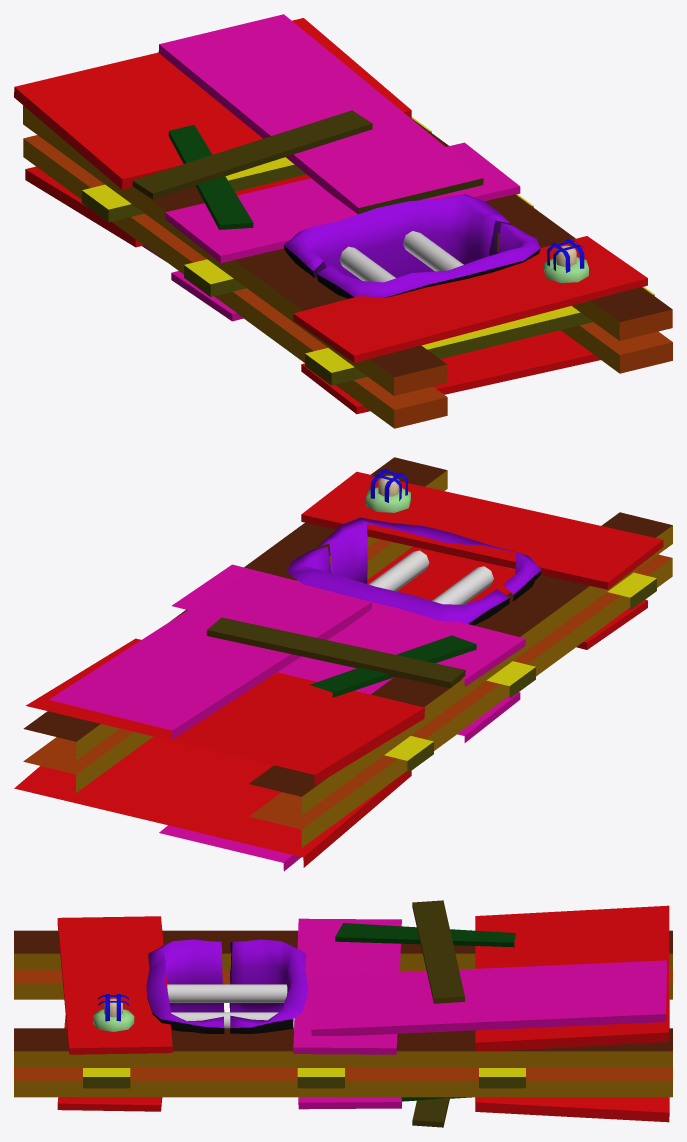
The model's file is Crenel_tier_1.gltf.
3 views of the same model, one above another, from view 1: azimuth 30°, elevation 25°; view 2: azimuth 150°, elevation 25°; view 3: azimuth 270°, elevation 25° (orthographic). The views are drawn at different scales.
Visible parts, largest first — view 1: Crenel_Tier_1; view 2: Crenel_Tier_1; view 3: Crenel_Tier_1.
Part boxes in pixels (bbox=[...]): Crenel_Tier_1: bbox=[14, 14, 672, 428]; Crenel_Tier_1: bbox=[14, 457, 672, 871]; Crenel_Tier_1: bbox=[14, 900, 672, 1127].
Bounding box in the file's own units: 1000 × 359 × 1992.
